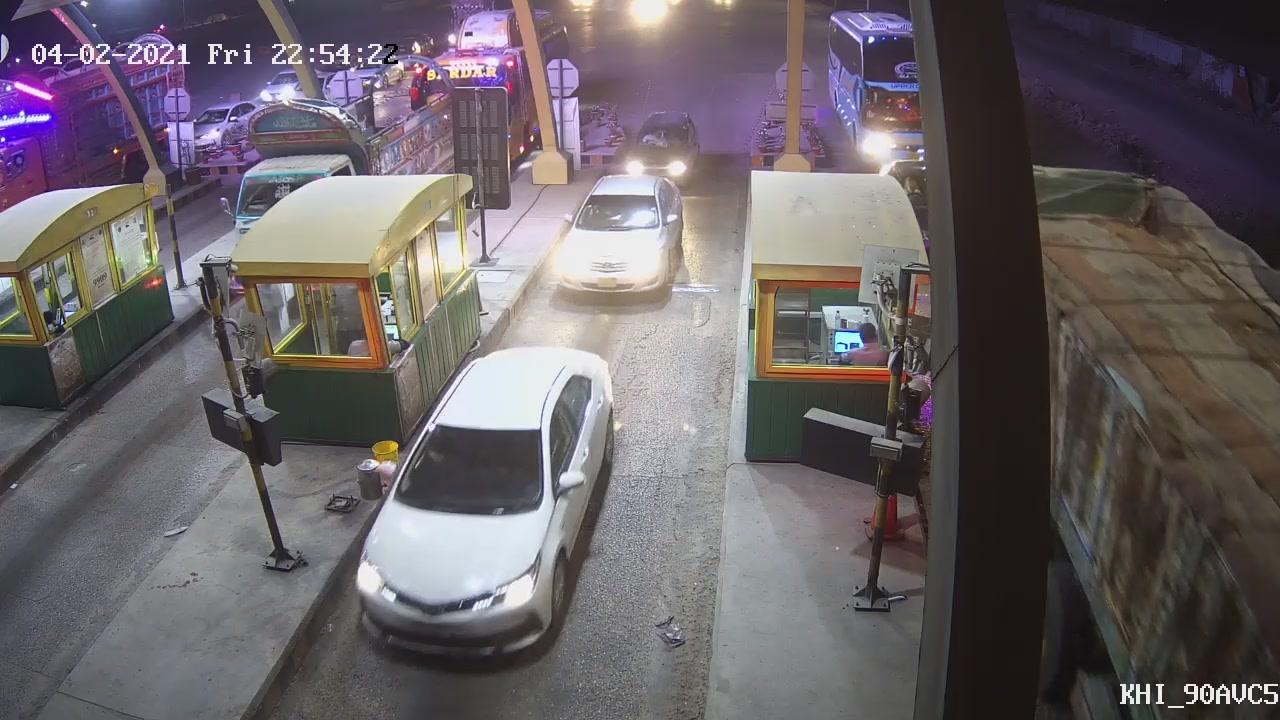F1: (354, 344, 620, 665), (556, 173, 689, 299)
